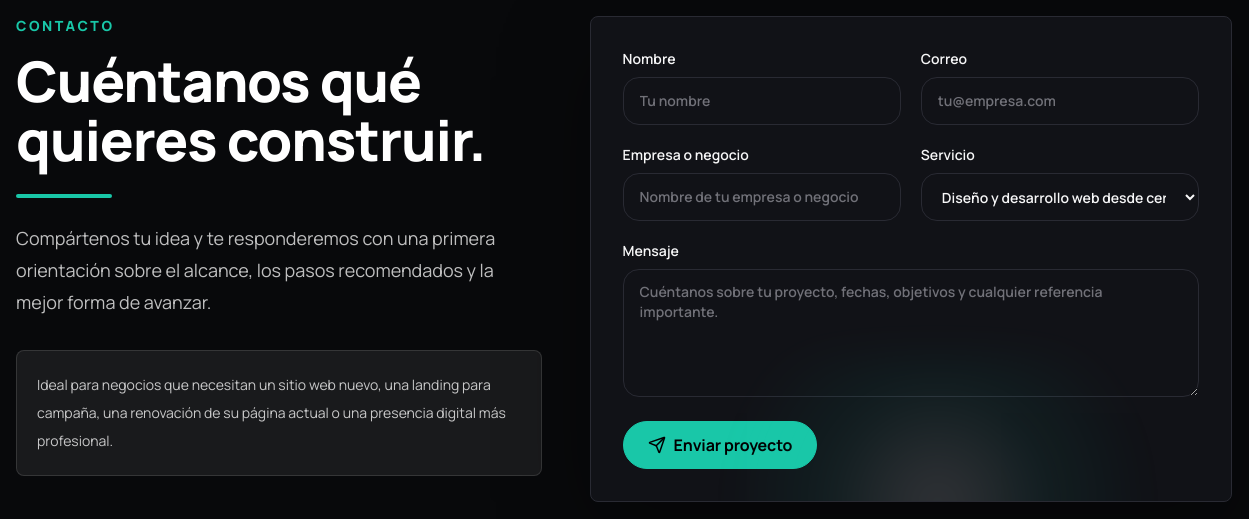
ContactForm › submits a valid lead to the mock API
The width and height of the screenshot is (1249, 519).
Type "Rami Salinas" into the field labelled "Nombre".
click(762, 101); type("Rami Salinas")  # box [623,77,901,125]
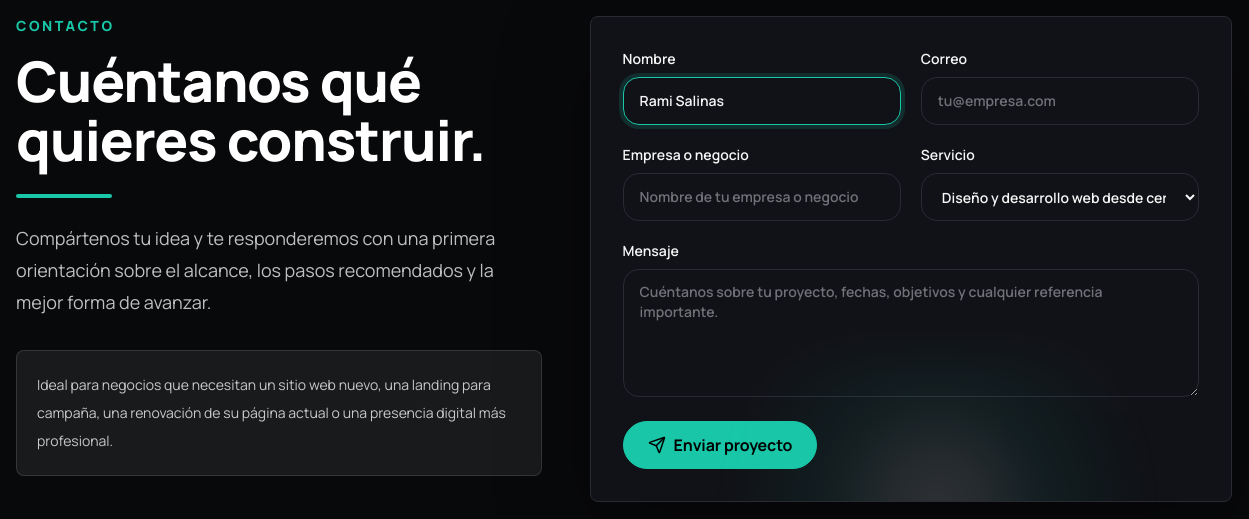
Type "rami@example.com" into the field labelled "Correo".
click(1060, 101); type("rami@example.com")  # box [921,77,1199,125]
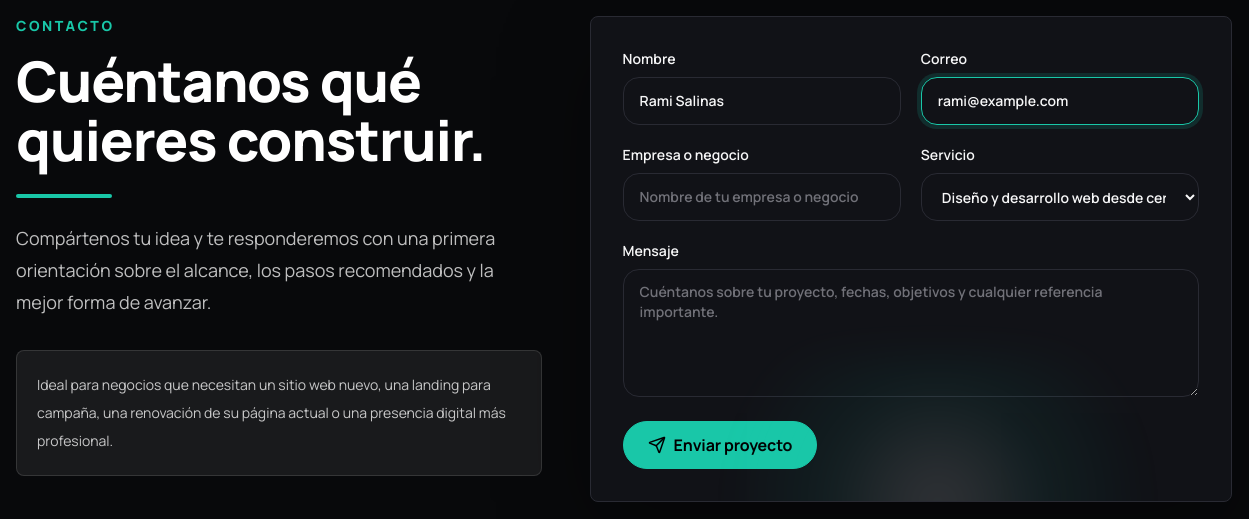
Type "Necesito una landing moderna para lanzar un nuevo servicio web." into the text box labelled "Mensaje".
click(911, 333); type("Necesito una landing moderna para lanzar un nuevo servicio web.")  # box [623,269,1199,397]
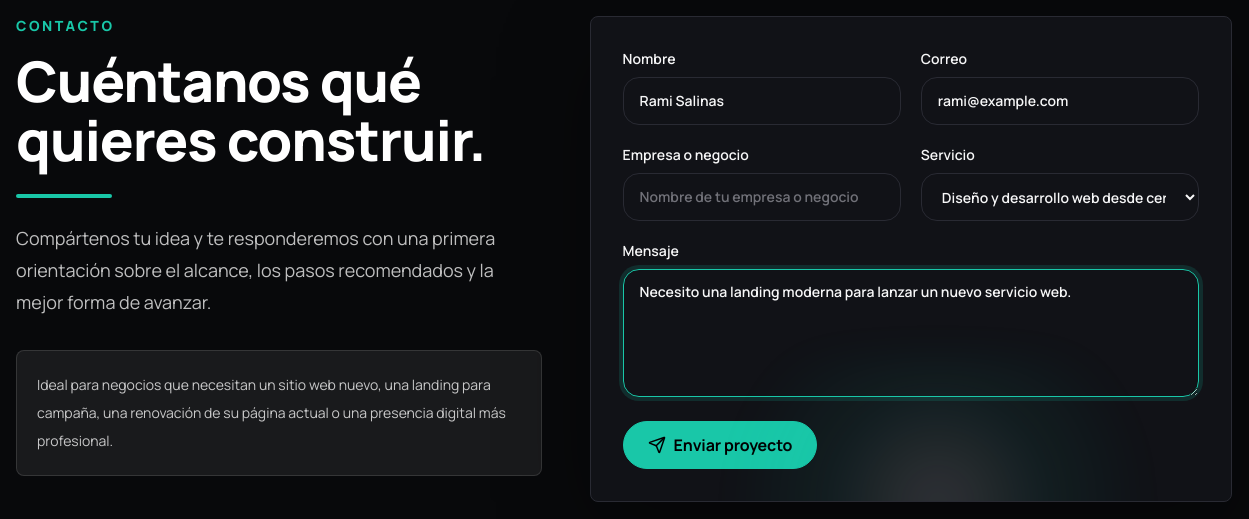
Click the button "Enviar proyecto".
click(720, 445)  # box [623,421,817,469]
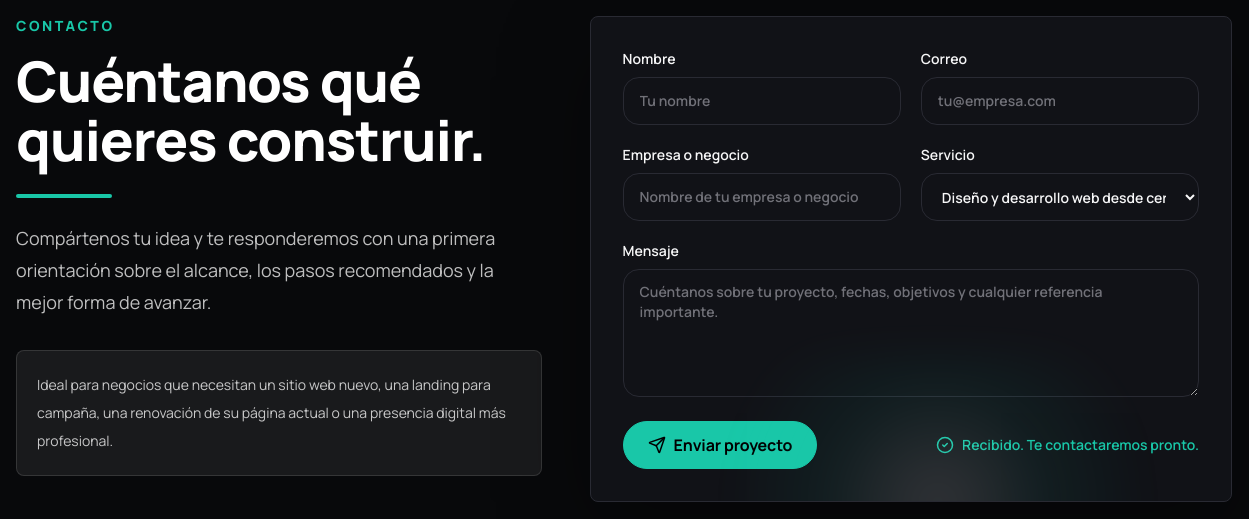
Check: the text "Recibido. Te contactaremos pronto." is shown, box [936,435,1199,455]
